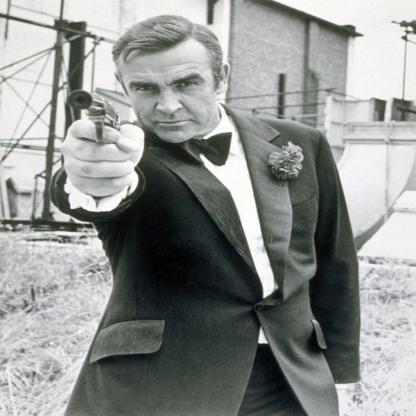gun: (60, 90, 139, 137)
